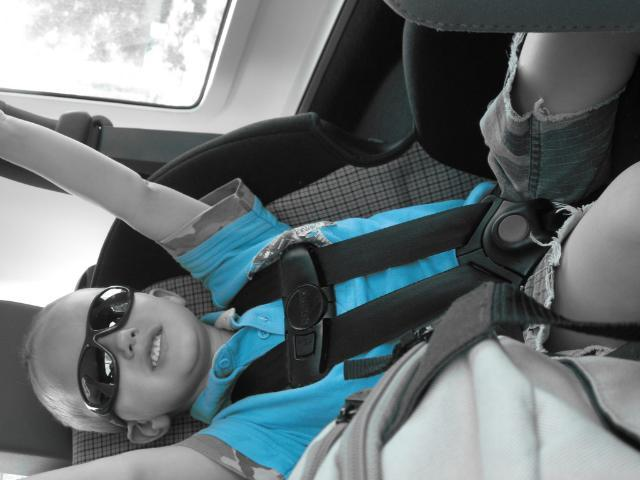Seatbelt: (230, 262, 510, 402)
